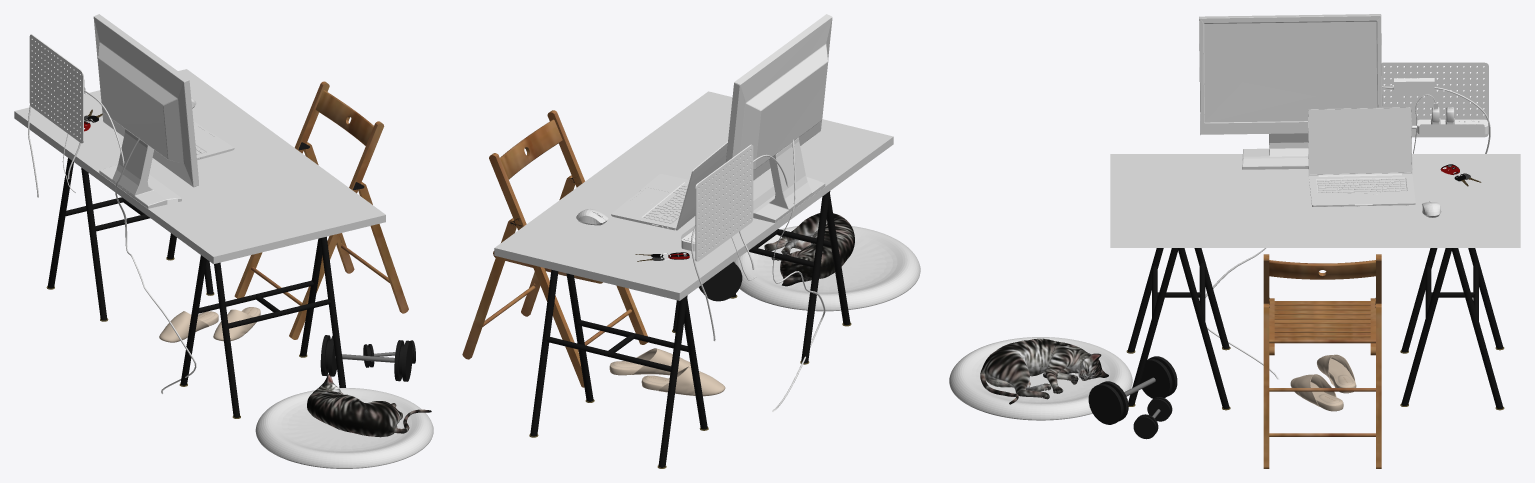
3 renders of one model, left to right at view 1: azimuth 30°, elevation 25°; view 2: azimuth 150°, elevation 25°; view 3: azimuth 270°, elevation 25°, orthographic. The views are drawn at different scales.
Parts seen in each view (by area): view 1: Set6_1, Set6_3, Set6_2; view 2: Set6_1, Set6_3, Set6_2; view 3: Set6_1, Set6_3, Set6_2.
Boxes of the visible parts, left/top/right/bottom form: Set6_1: left=14, top=14, right=408, bottom=418; Set6_3: left=255, top=374, right=433, bottom=468; Set6_2: left=84, top=109, right=415, bottom=381; Set6_1: left=462, top=14, right=893, bottom=468; Set6_3: left=734, top=213, right=920, bottom=311; Set6_2: left=609, top=252, right=742, bottom=396; Set6_1: left=1110, top=14, right=1520, bottom=468; Set6_3: left=949, top=337, right=1132, bottom=420; Set6_2: left=1088, top=164, right=1481, bottom=439.
Bounding box in the file's own units: 1.21 × 1.44 × 2.09.
Materials: 23 (6 with a texture image).
